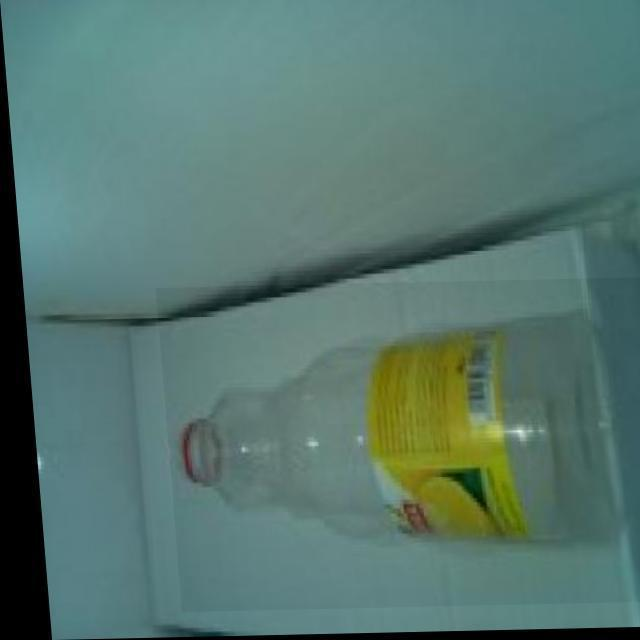good: (151, 280, 640, 613)
